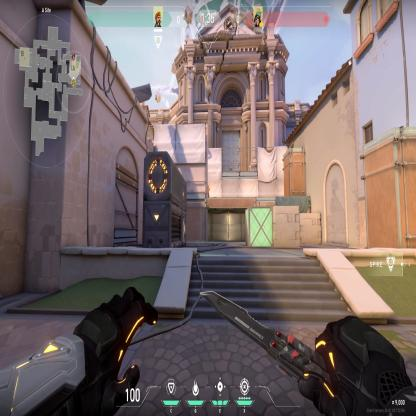enemy: (207, 183, 210, 198)
